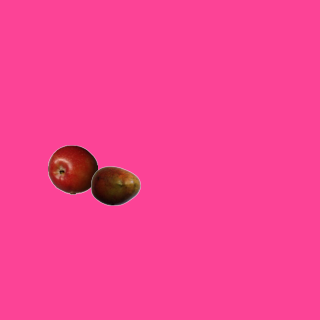Apple Braeburn: (47, 144, 97, 194)
Mango Red: (90, 160, 140, 210)
